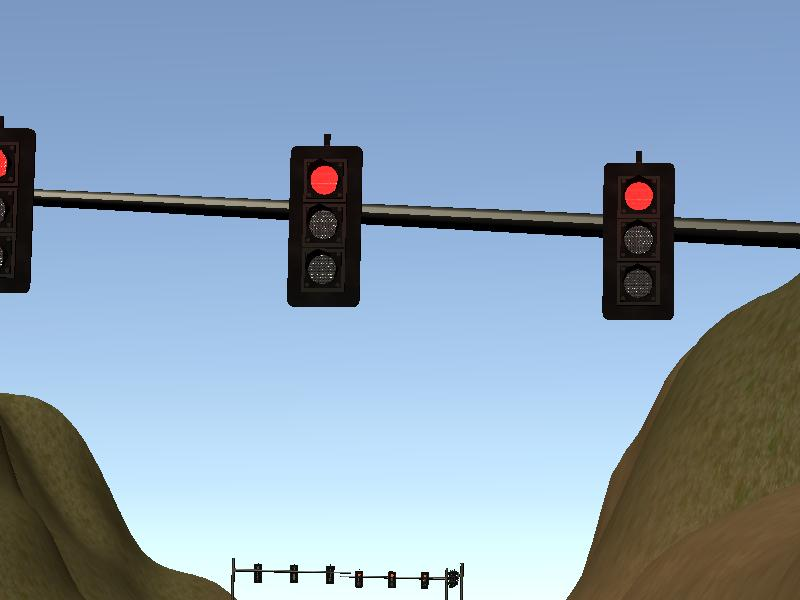red: (601, 160, 676, 322), (288, 144, 362, 308), (1, 128, 29, 291)
